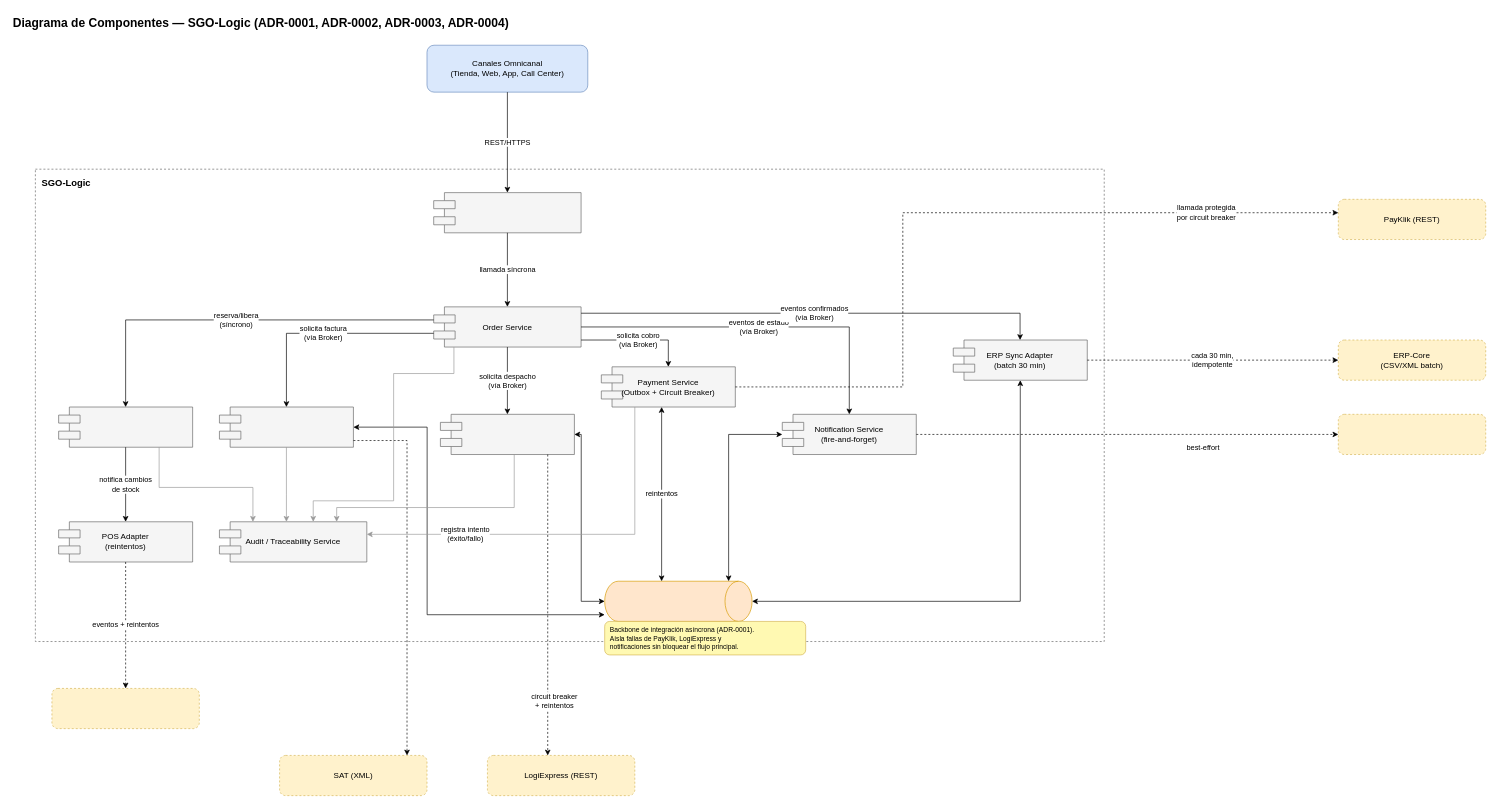
Image size: 1497x807. Some labels were removed from this diagram. The centre of each missing label's shape, as x and y in pixels:
"API Gateway / BFF Omnicanal" belongs at [507,212].
"Inventory Service (Inventario Centralizado)" belongs at [125,426].
"Invoicing Service (Facturación SAT)" belongs at [286,426].
"Logistics Service (Despacho + LogiExpress)" belongs at [507,434].
"Message Broker" belongs at [678,601].
"Notificaciones (SMS/correo/push)" belongs at [1412,434].
"POS (eventos + reintentos)" belongs at [125,708].
